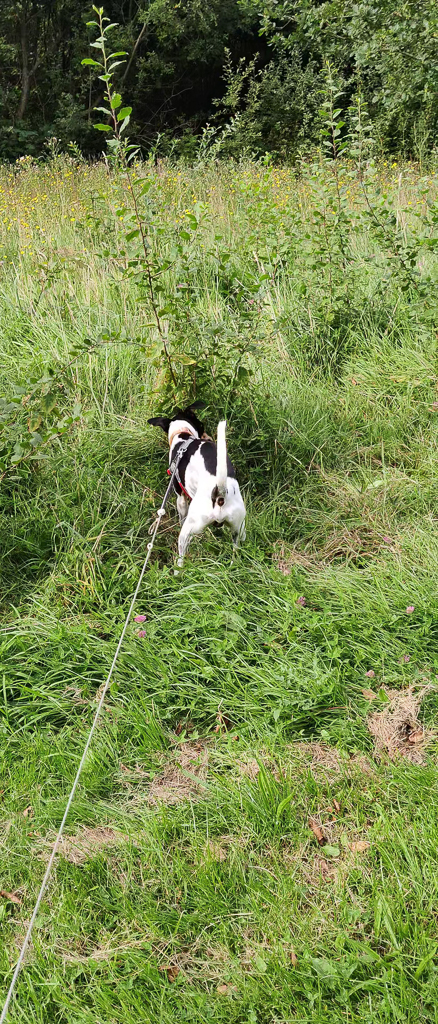Dog: (127, 385, 265, 579)
